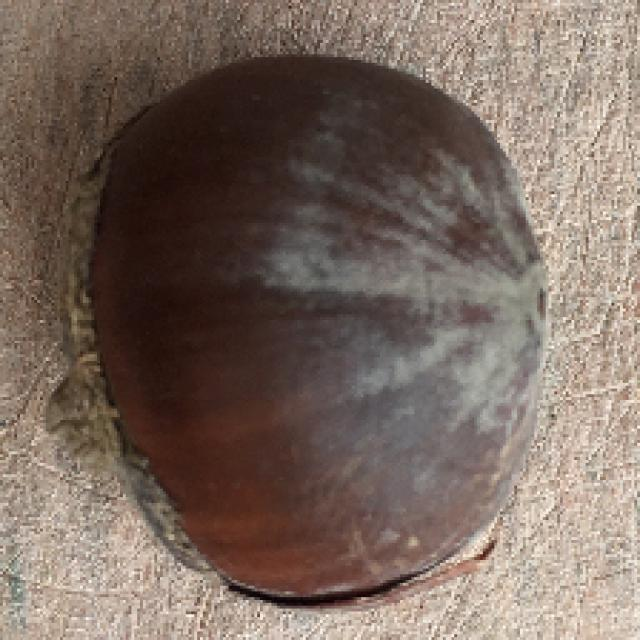damagedHazelnut: (55, 48, 568, 612)
